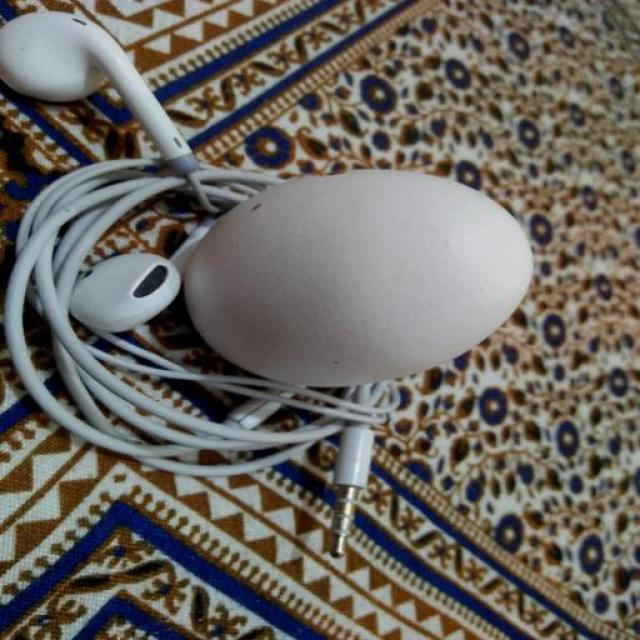telur: (180, 161, 542, 395)
